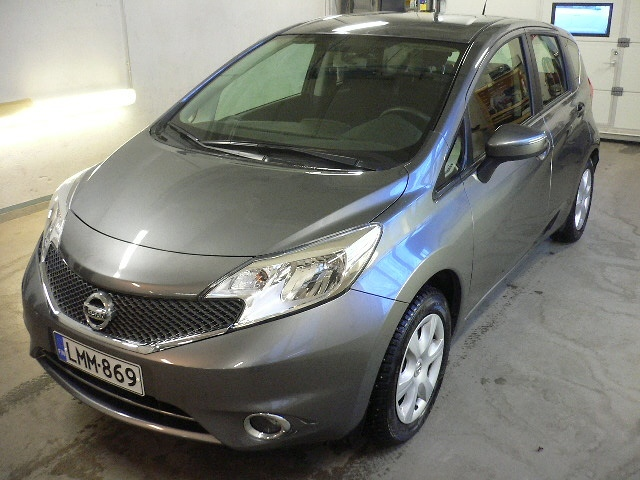license: (52, 328, 139, 399)
